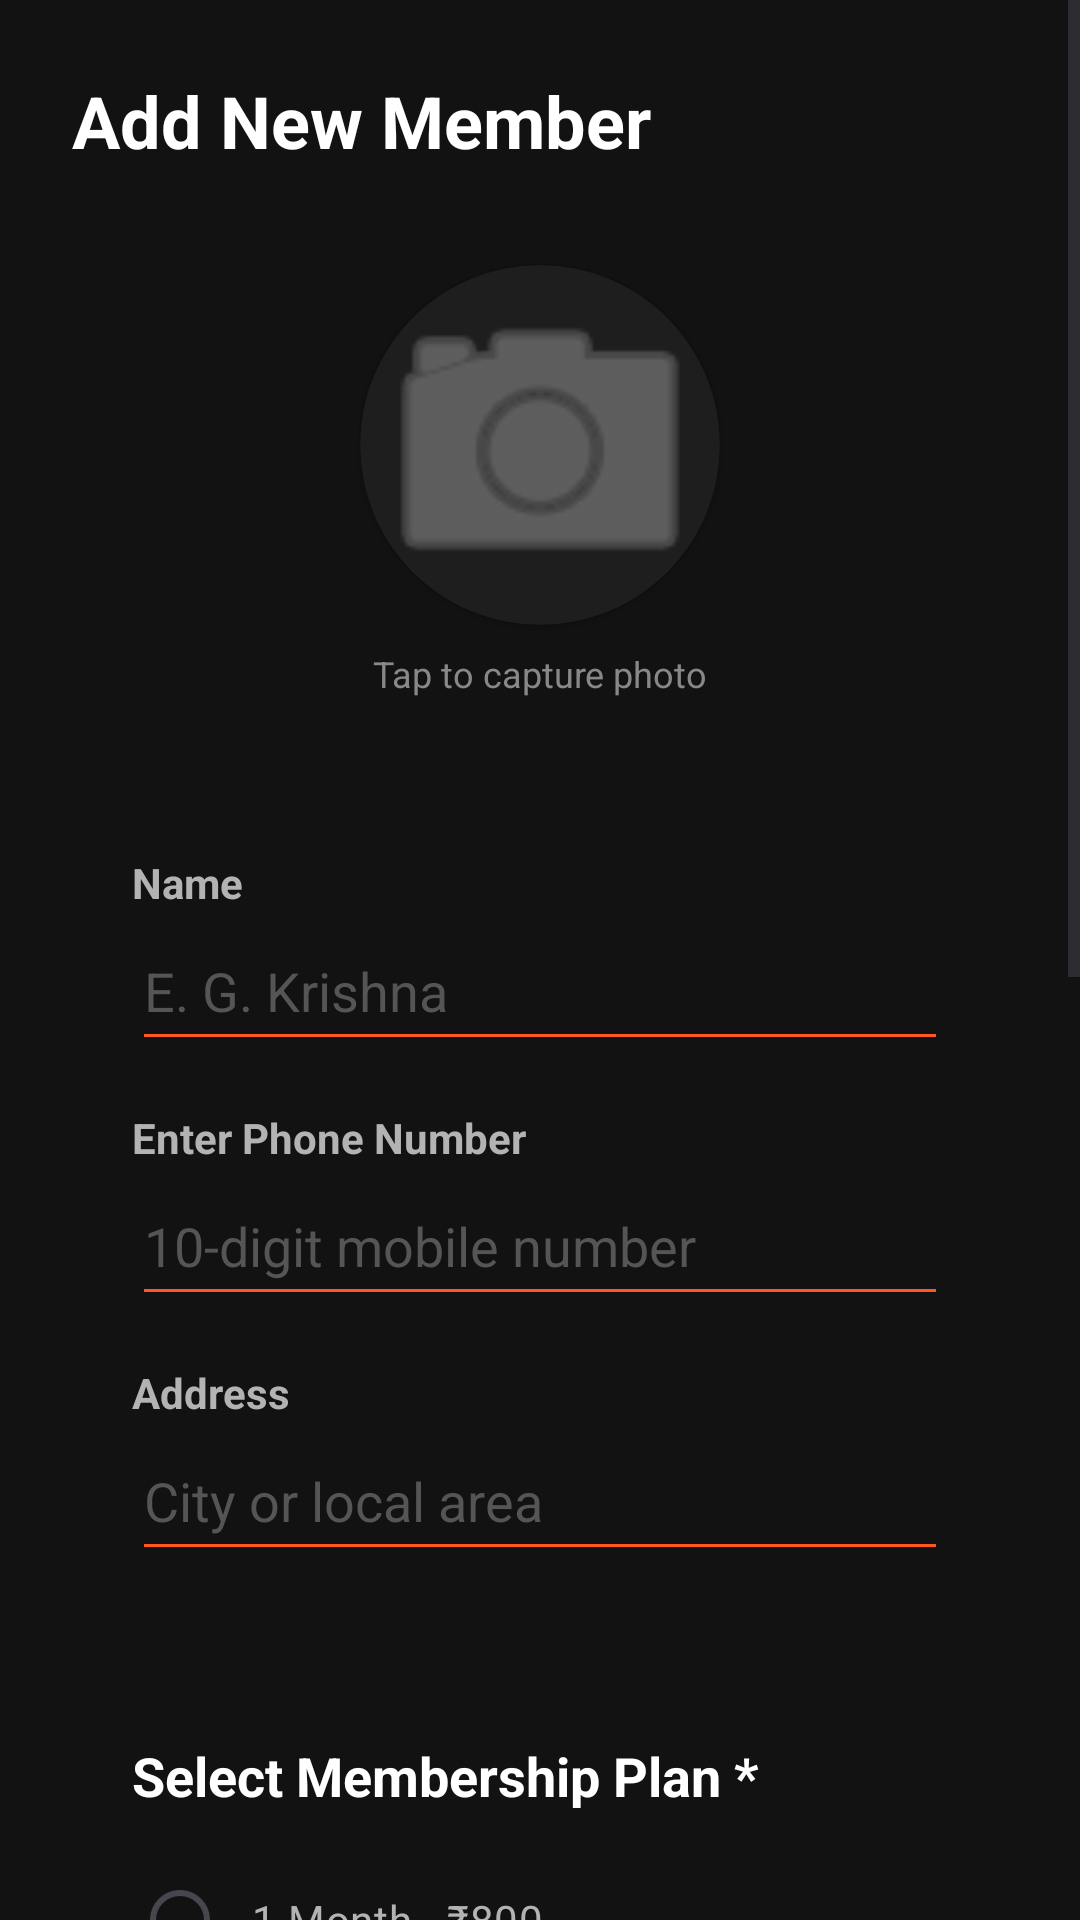

Where icons sit on this 1080px×1920px app screen, as (x1, y1, x2, y2):
camera: (401, 328, 679, 550)
